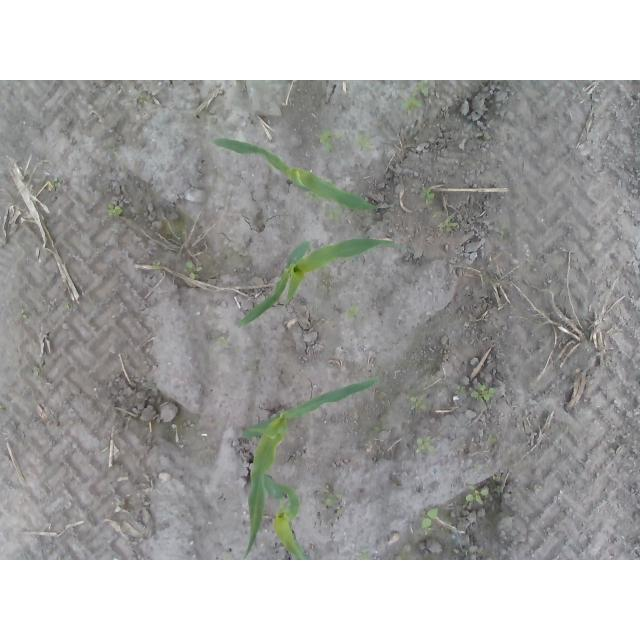Maize: (244, 376, 380, 561), (241, 234, 399, 326), (208, 135, 377, 211), (263, 474, 309, 560)
Weeds: (464, 486, 490, 507), (321, 131, 344, 154), (471, 384, 498, 403), (420, 507, 438, 529), (357, 135, 376, 153), (186, 260, 202, 280), (401, 97, 423, 111), (409, 394, 427, 411), (415, 437, 434, 452), (326, 209, 342, 224), (106, 203, 123, 217), (417, 80, 430, 98), (440, 220, 459, 232), (216, 334, 231, 349), (421, 191, 435, 207), (346, 306, 362, 320), (494, 225, 508, 239), (16, 307, 29, 321), (359, 544, 369, 560), (305, 190, 319, 201), (53, 176, 64, 188), (455, 385, 467, 396), (140, 93, 153, 103), (394, 244, 406, 254), (152, 259, 161, 269), (63, 303, 70, 312)
